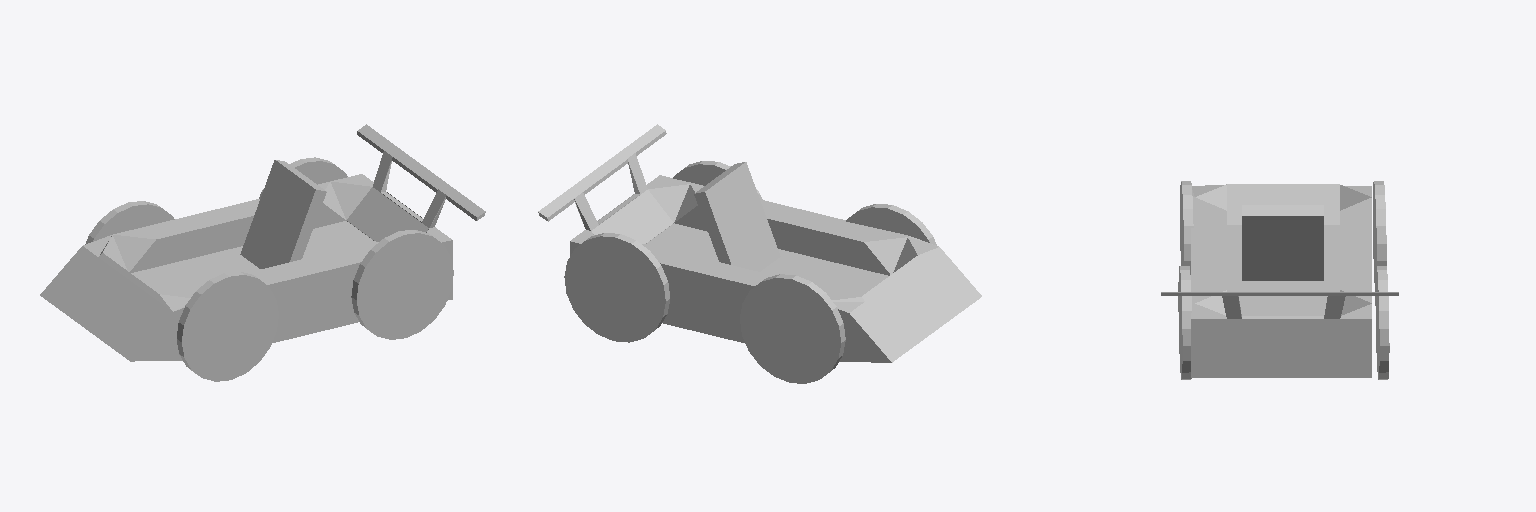
Rendered from car3.obj.
The picture shows the model from 3 angles: view 1: azimuth 30°, elevation 25°; view 2: azimuth 150°, elevation 25°; view 3: azimuth 270°, elevation 25°; orthographic projection.
Visible parts, largest first — view 1: pCylinder6; view 2: pCylinder6; view 3: pCylinder6.
Part boxes in pixels (x1,y1,x2,y2): pCylinder6: (40, 124, 485, 381); pCylinder6: (538, 124, 981, 383); pCylinder6: (1161, 181, 1398, 379).
Bounding box in the file's own units: 1.98 × 0.7817 × 1.2.